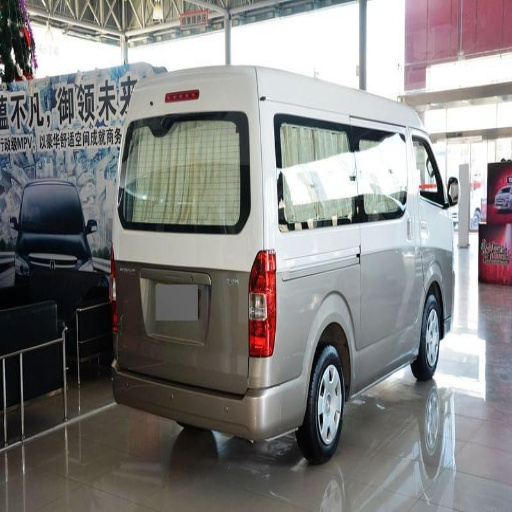back_bumper: (116, 353, 308, 442)
back_glass: (161, 147, 223, 218)
trunk: (270, 225, 456, 379), (121, 228, 260, 391)
